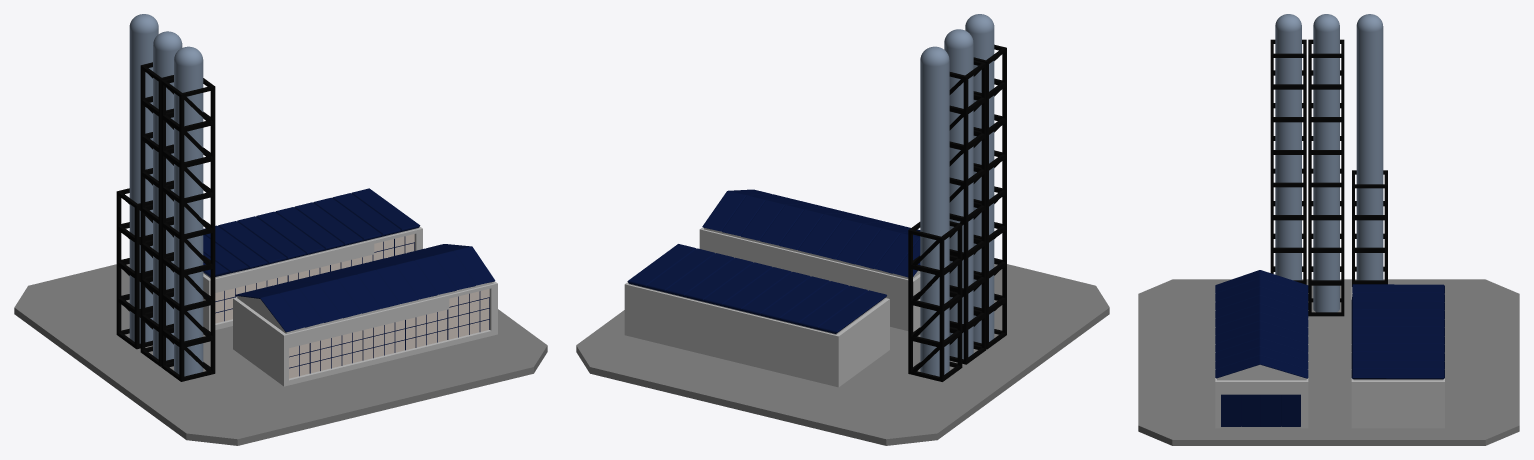
The picture shows the model from 3 angles, left to right: view 1: azimuth 30°, elevation 25°; view 2: azimuth 150°, elevation 25°; view 3: azimuth 270°, elevation 25°; orthographic projection. The views are drawn at different scales.
Parts seen in each view (by area): view 1: polySurface397, polySurface407, polySurface399, pCube55, polySurface390, polySurface404; view 2: polySurface397, polySurface407, polySurface390, polySurface399, pCube55; view 3: polySurface397, polySurface407, polySurface399, pCube55, polySurface390.
Part boxes in pixels (x1,y1,x2,y2): polySurface397: (14, 264, 547, 445); polySurface407: (203, 188, 495, 376); polySurface399: (129, 14, 203, 376); pCube55: (116, 62, 215, 381); polySurface390: (203, 226, 497, 386); polySurface404: (215, 234, 489, 378); polySurface397: (576, 264, 1109, 445); polySurface407: (627, 189, 920, 333); polySurface390: (624, 227, 920, 387); polySurface399: (920, 14, 994, 376); pCube55: (908, 44, 1006, 381); polySurface397: (1138, 279, 1519, 445); polySurface407: (1215, 270, 1444, 426); polySurface399: (1275, 14, 1383, 312); pCube55: (1270, 39, 1387, 316); polySurface390: (1215, 287, 1444, 428).
Bounding box in the file's own units: 243 × 244 × 211.
